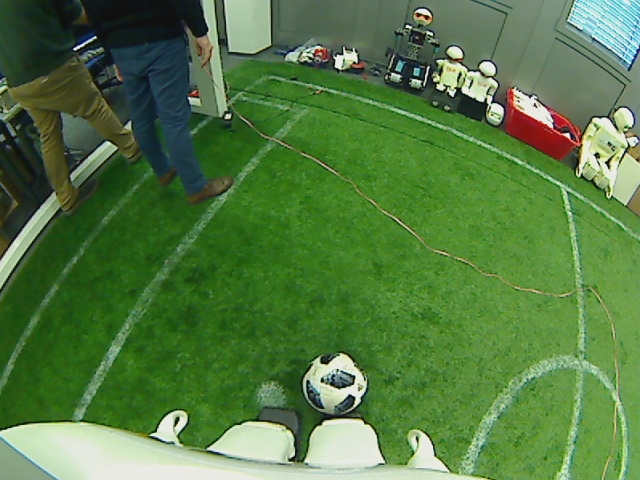ball: (298, 350, 369, 416)
